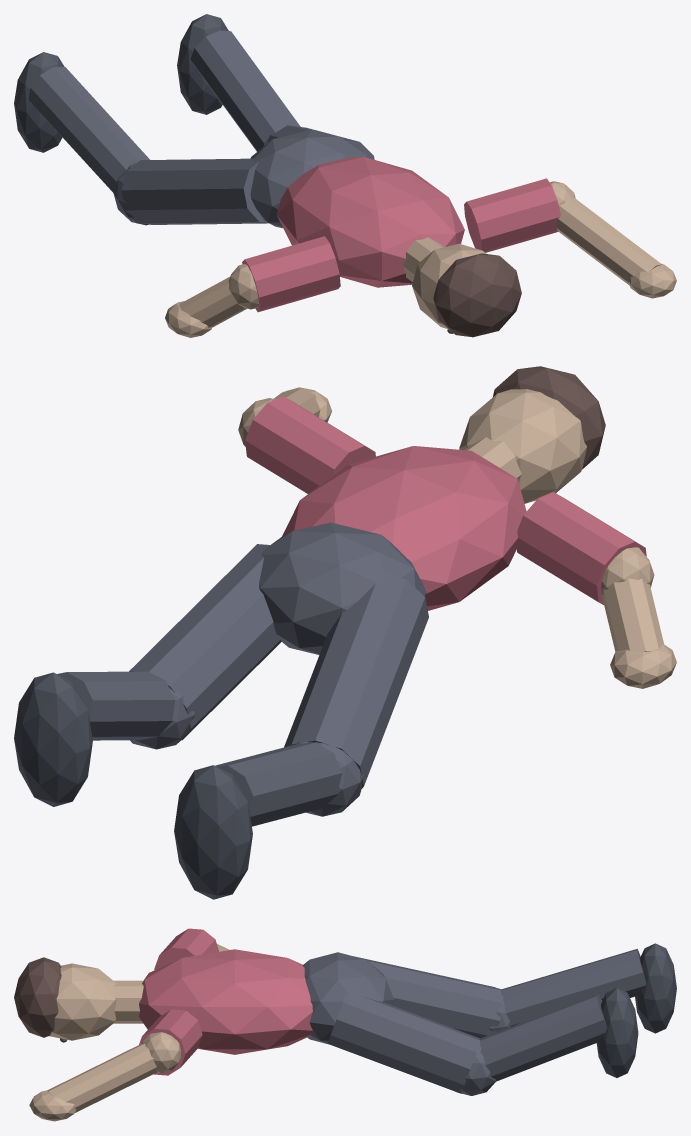
3 renders of one model, top to bottom at view 1: azimuth 30°, elevation 25°; view 2: azimuth 150°, elevation 25°; view 3: azimuth 270°, elevation 25°, orthographic. The views are drawn at different scales.
Parts seen in each view (by area): view 1: world; view 2: world; view 3: world.
Part boxes in pixels (x1,y1,x2,y2): world: (14,14,676,337); world: (14,366,676,899); world: (14,928,676,1121).
Size of the model in its own units: 1.25 by 0.3942 by 2.
